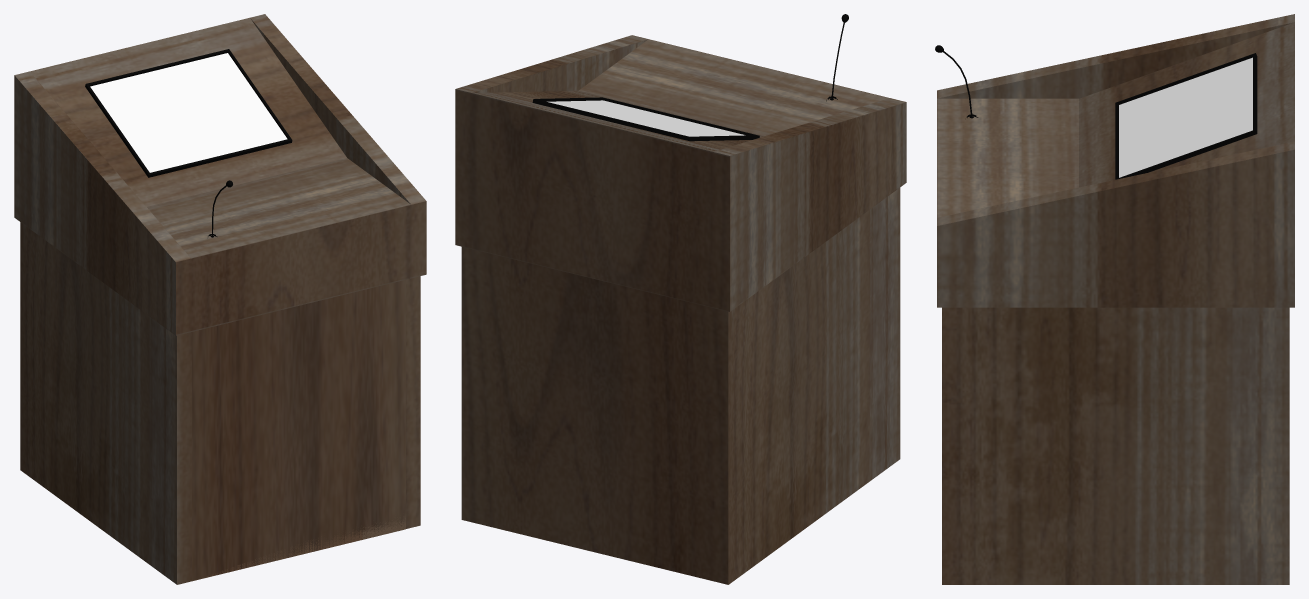
File: SCH0110014.fbx
The picture shows the model from 3 angles, left to right: view 1: azimuth 30°, elevation 25°; view 2: azimuth 150°, elevation 25°; view 3: azimuth 270°, elevation 25°; orthographic projection. The views are drawn at different scales.
Visible parts, largest first — view 1: smSCH0110014; view 2: smSCH0110014; view 3: smSCH0110014.
Part boxes in pixels (x1=…): smSCH0110014: x1=14, y1=14, x2=426, y2=584; smSCH0110014: x1=455, y1=14, x2=906, y2=584; smSCH0110014: x1=935, y1=14, x2=1294, y2=584.
Size of the model in its own units: 80.86 by 122 by 90.63.
1 material, 1 textured.
